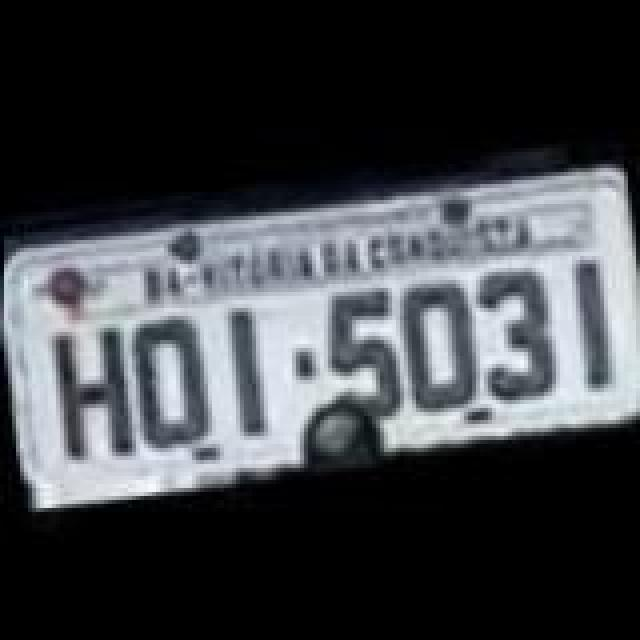1: (558, 250, 626, 386), (214, 296, 278, 440)
3: (460, 252, 564, 404)
5: (310, 276, 414, 428)
H: (44, 314, 144, 470)
O: (386, 266, 494, 418), (120, 306, 212, 450)
